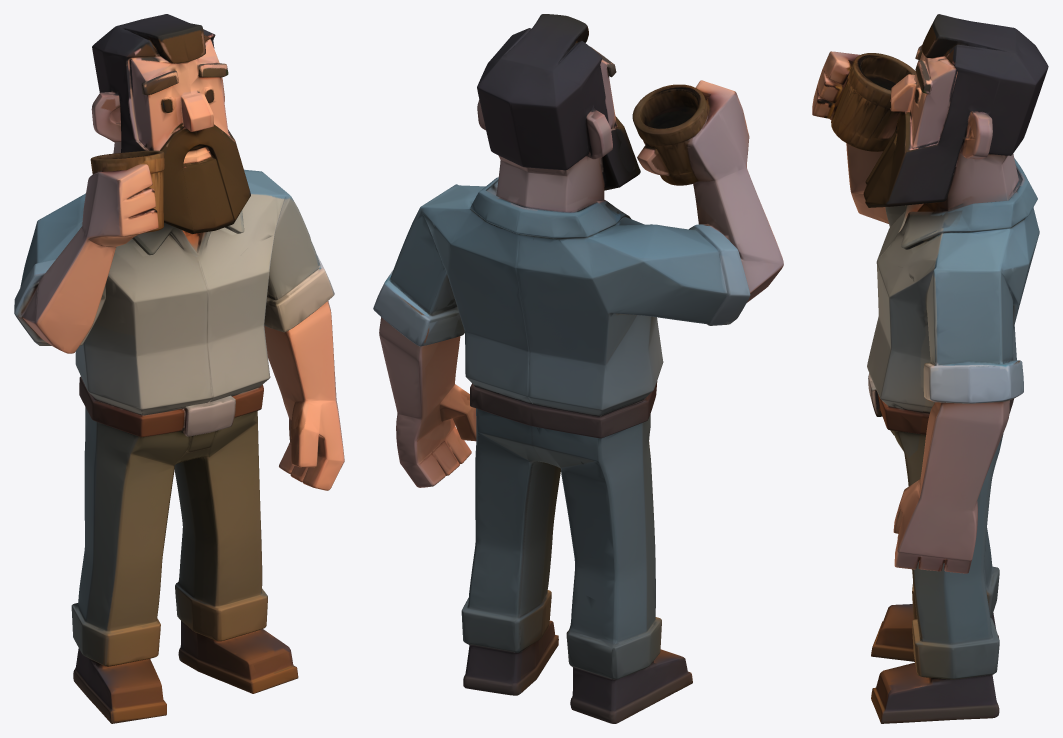
3 views of the same model, side by side, from view 1: azimuth 30°, elevation 25°; view 2: azimuth 150°, elevation 25°; view 3: azimuth 270°, elevation 25° (orthographic).
Visible parts, largest first — view 1: node_0; view 2: node_0; view 3: node_0.
Boxes of the visible parts, box(x1,y1,x2,y2) form: node_0: box(14, 14, 344, 723); node_0: box(373, 14, 783, 723); node_0: box(812, 14, 1048, 723).
Bounding box in the file's own units: 0.6233 × 1.15 × 0.3711.
Materials: 1 (1 with a texture image).
